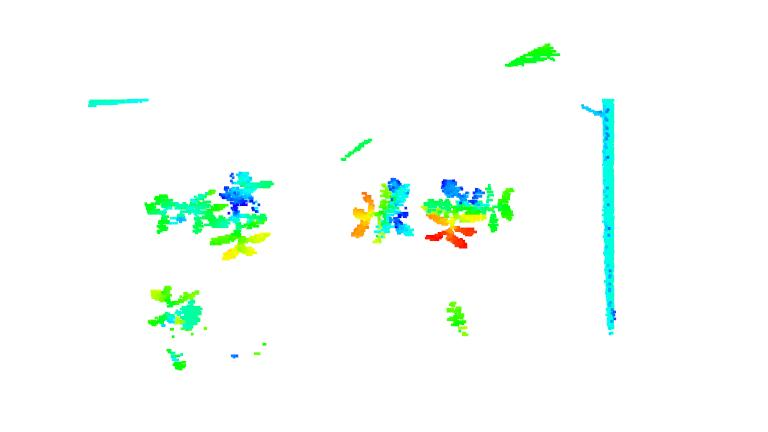chickpea: (419, 176, 521, 248), (207, 165, 281, 264), (144, 280, 209, 373), (349, 175, 421, 247), (144, 184, 225, 238), (443, 298, 480, 341)
